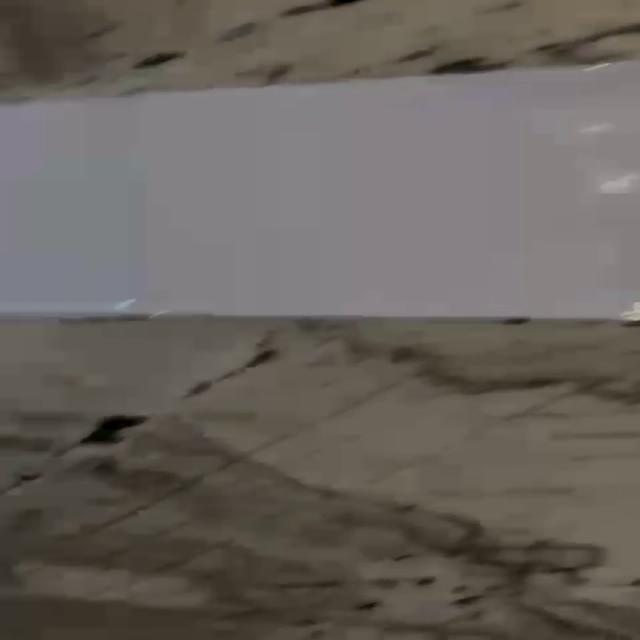road: (0, 59, 640, 321)
